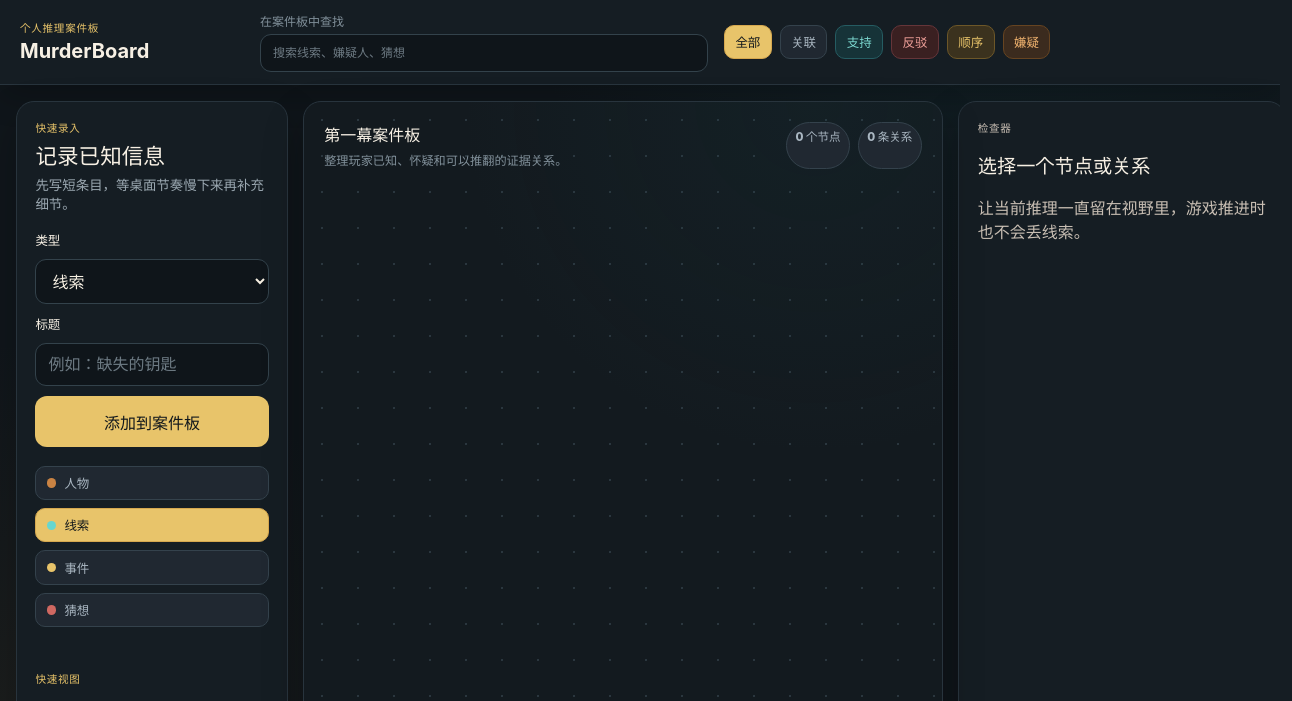
Test case: BoardPage › shows Chinese error when quick-add fails
Step 1. Type "测试" into the field labelled "标题" → point(152, 364), box [35,343,269,386]
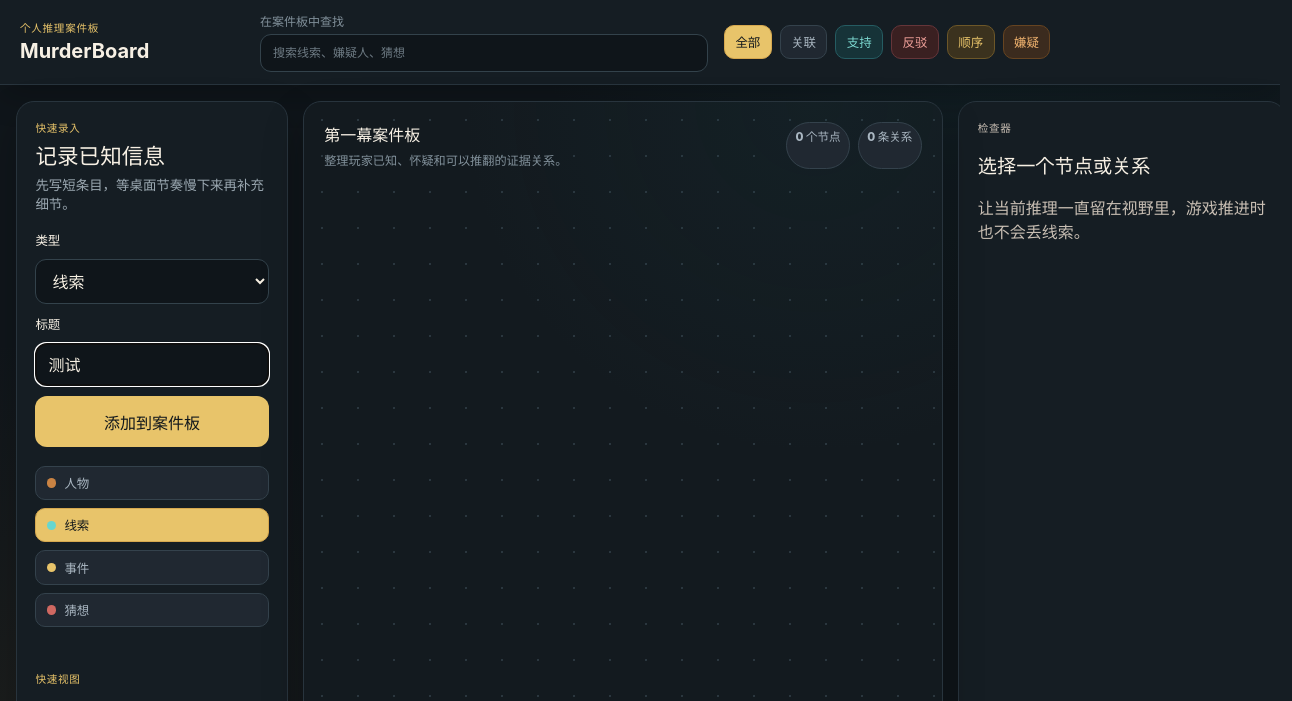
Step 2. Click the button "添加到案件板" → point(152, 422), box [35,396,269,447]
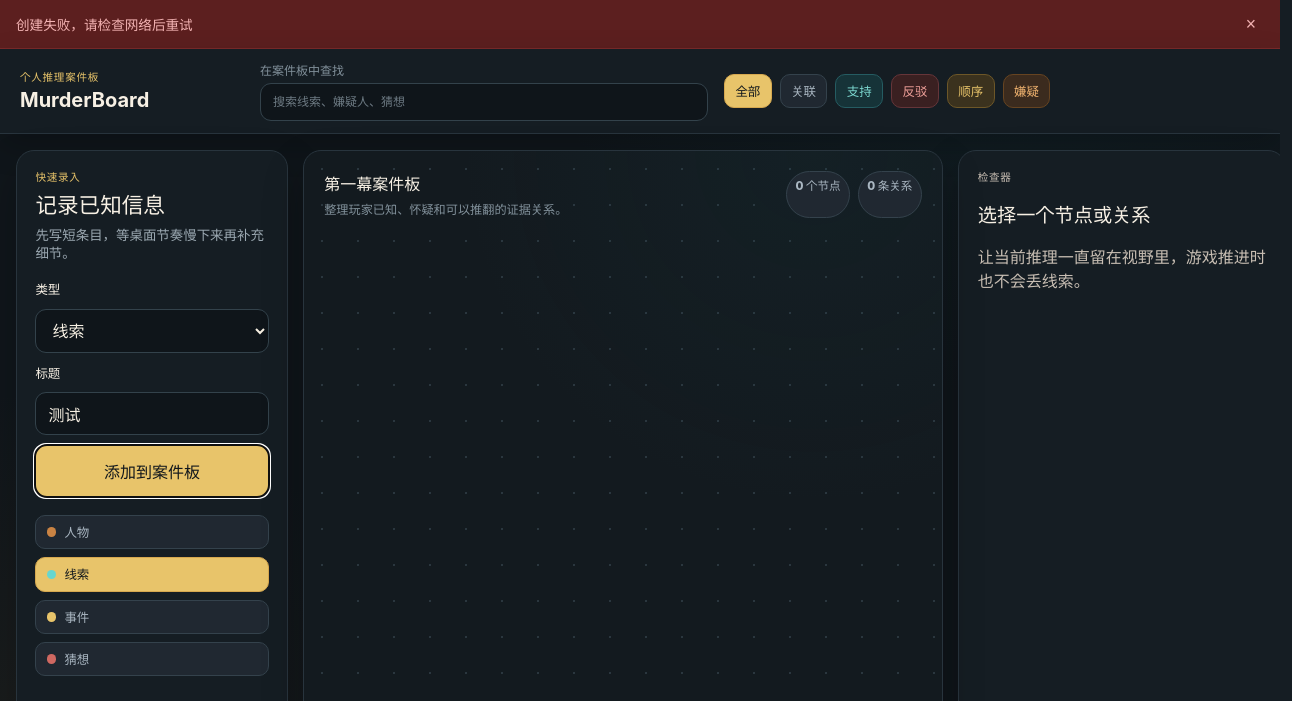
Check: the text "创建失败，请检查网络后重试" is shown, box [16,14,193,34]
